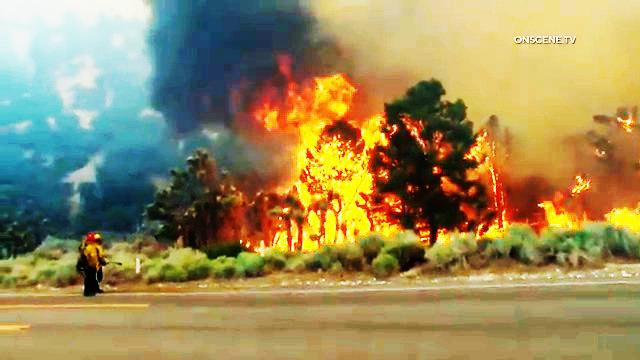fire: (288, 86, 374, 234), (536, 193, 640, 232)
smoke: (145, 9, 348, 75)
